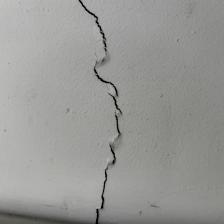Medium: (68, 5, 141, 211)
